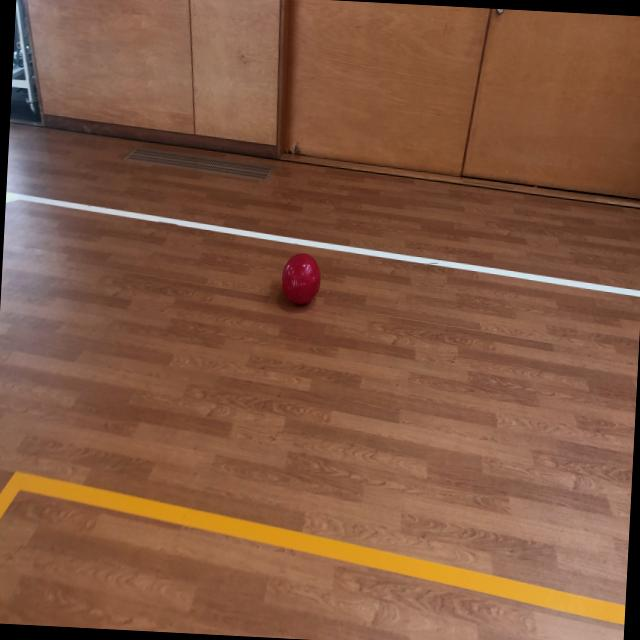red_ball: (281, 250, 320, 306)
